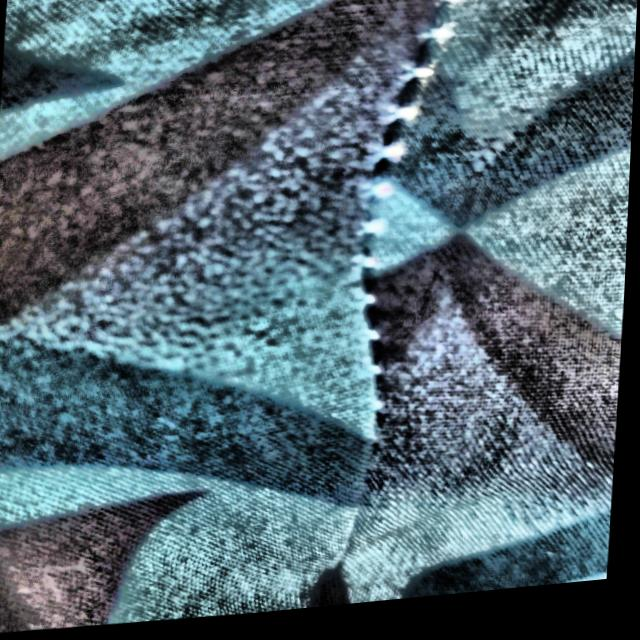Stitch: (309, 0, 471, 442)
